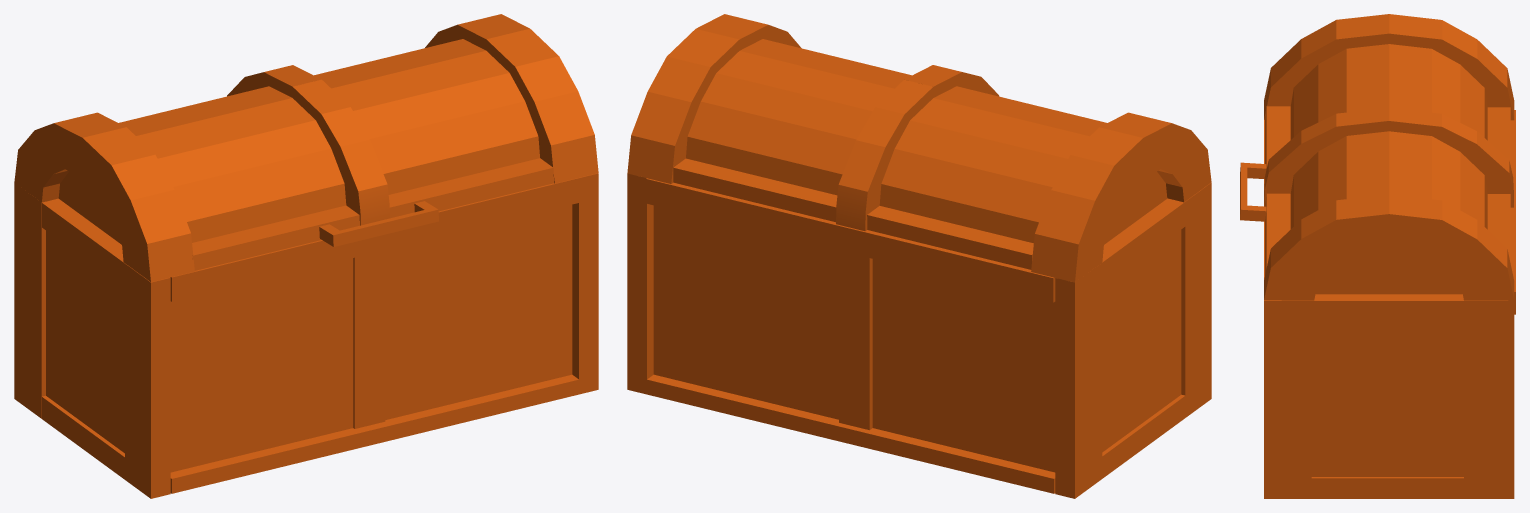
3 renders of one model, left to right at view 1: azimuth 30°, elevation 25°; view 2: azimuth 150°, elevation 25°; view 3: azimuth 270°, elevation 25°, orthographic. The views are drawn at different scales.
Visible parts, largest first — view 1: down, up; view 2: down, up; view 3: up, down.
Part boxes in pixels (<box>): down: <box>14,173,598,498</box>; up: <box>14,14,598,281</box>; down: <box>627,173,1211,498</box>; up: <box>627,14,1211,282</box>; up: <box>1240,14,1514,300</box>; down: <box>1264,110,1515,498</box>.
Size of the model in its own units: 1.07 by 0.7094 by 0.6225.
